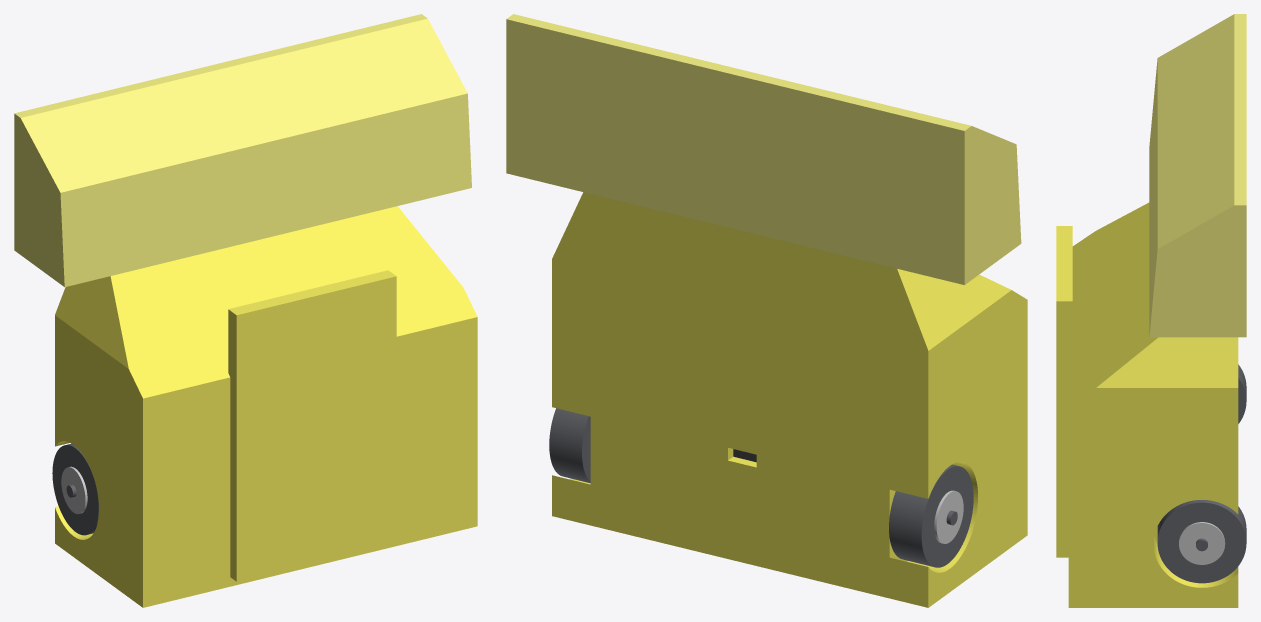
File: ripper_remix.glb
3 renders of one model, left to right at view 1: azimuth 30°, elevation 25°; view 2: azimuth 150°, elevation 25°; view 3: azimuth 270°, elevation 25°, orthographic. The views are drawn at different scales.
Parts seen in each view (by area): view 1: chassis, scoop, flipper, wheel_r0, dt_hub_wheel_r0; view 2: chassis, scoop, wheel_r0, wheel_l0, dt_hub_wheel_r0; view 3: chassis, scoop, flipper, wheel_l0, dt_hub_wheel_l0, wheel_r0.
Boxes of the visible parts, left/top/right/bottom form: chassis: left=55, top=206, right=477, bottom=607; scoop: left=14, top=14, right=471, bottom=287; flipper: left=228, top=270, right=396, bottom=581; wheel_r0: left=52, top=443, right=98, bottom=535; dt_hub_wheel_r0: left=61, top=466, right=87, bottom=514; chassis: left=552, top=192, right=1027, bottom=607; scoop: left=506, top=14, right=1021, bottom=284; wheel_r0: left=889, top=464, right=973, bottom=567; wheel_l0: left=549, top=408, right=590, bottom=483; dt_hub_wheel_r0: left=934, top=490, right=963, bottom=543; chassis: left=1068, top=202, right=1238, bottom=607; scoop: left=1149, top=14, right=1246, bottom=337; flipper: left=1056, top=226, right=1072, bottom=557; wheel_l0: left=1157, top=500, right=1246, bottom=583; dt_hub_wheel_l0: left=1179, top=522, right=1225, bottom=564; wheel_r0: left=1238, top=364, right=1246, bottom=423.
Bounding box in the file's own units: 112 × 114 × 47.
